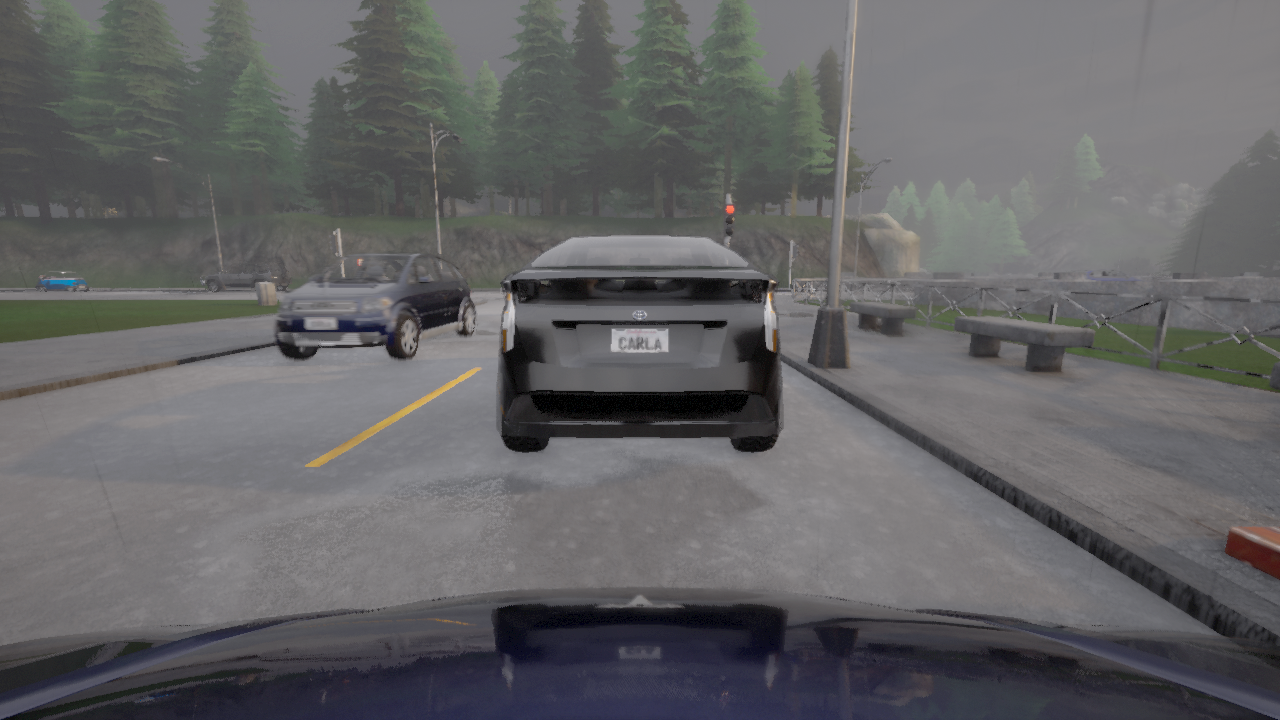cyclist: (0, 588, 1279, 719), (497, 234, 782, 451), (273, 252, 476, 360), (201, 262, 292, 292), (36, 271, 89, 292), (1070, 268, 1146, 280)
pedestrian: (890, 274, 894, 288)
